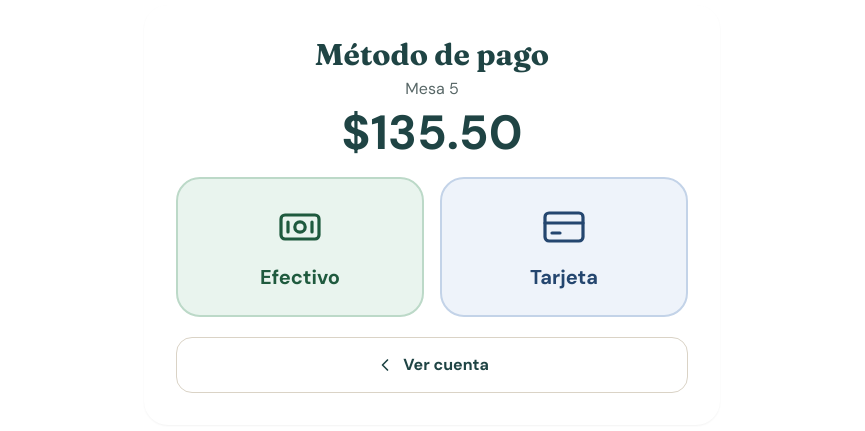
Test: PasosPago › tarjeta: exige codigo de la terminal
Later steps or results of the test are not shown.
Click the button "Tarjeta".
click(564, 247)  # box [440,177,688,317]
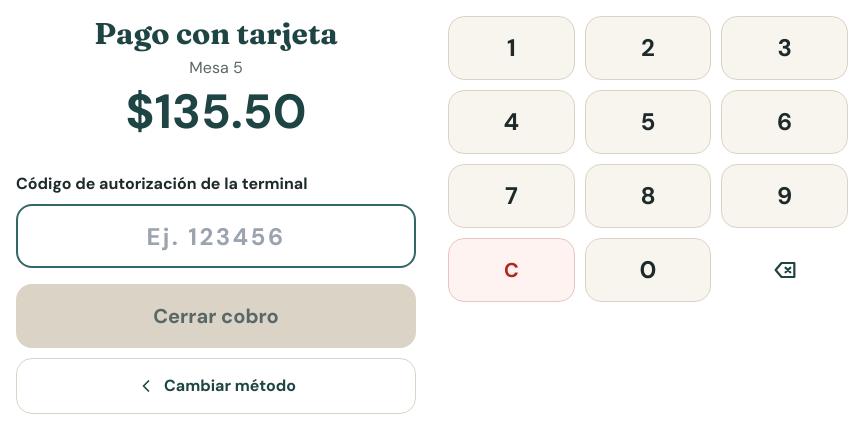
Expected: the button "Cerrar cobro" is disabled, [16,284,416,348]
